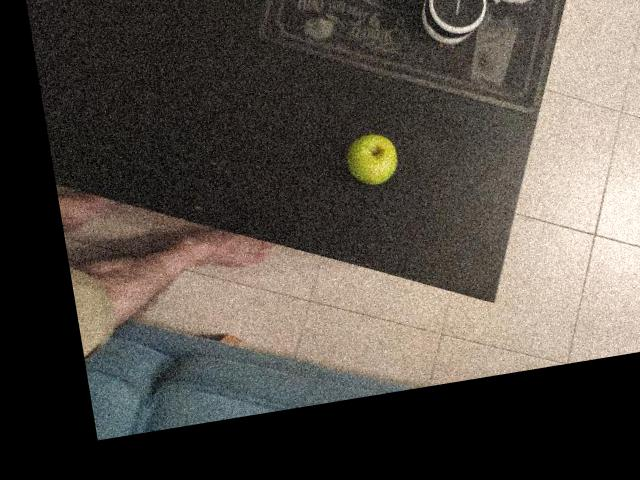apple: (336, 124, 405, 186)
